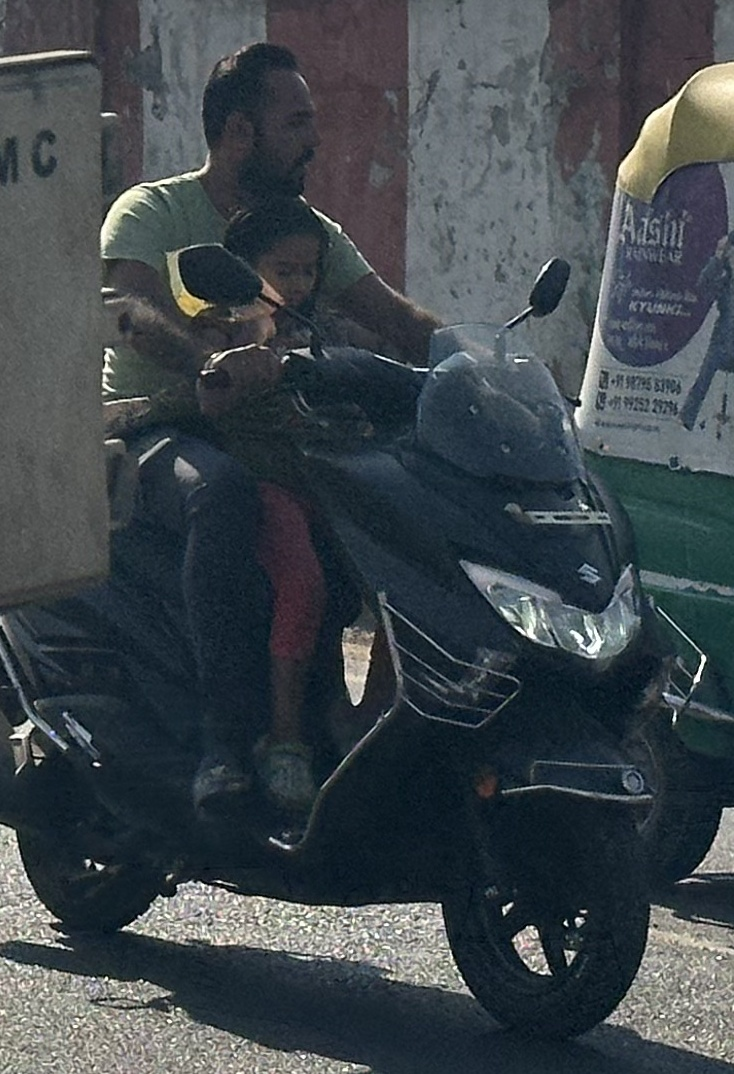BikeWithRider: (0, 27, 688, 1055)
NoHelmet: (182, 30, 335, 212)
